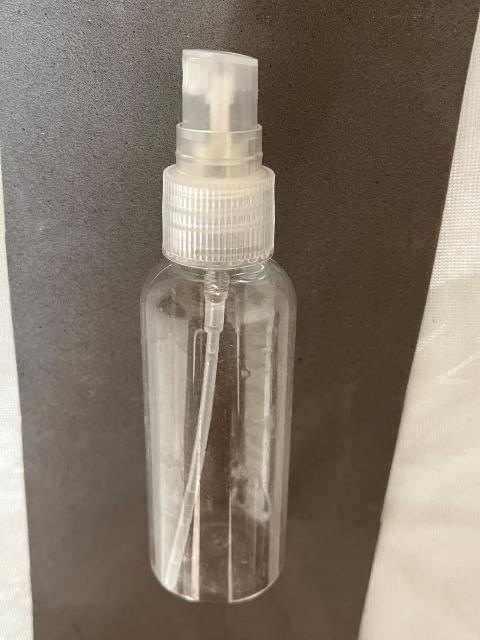PET: (105, 19, 345, 613)
